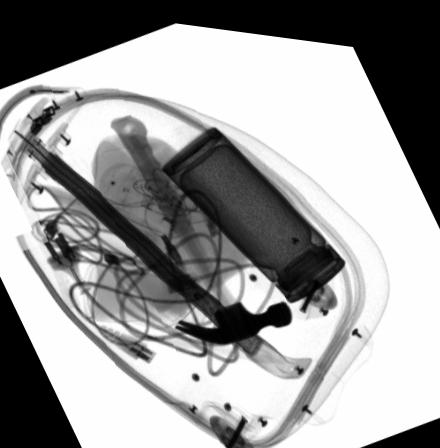Hammer: (109, 111, 291, 339)
